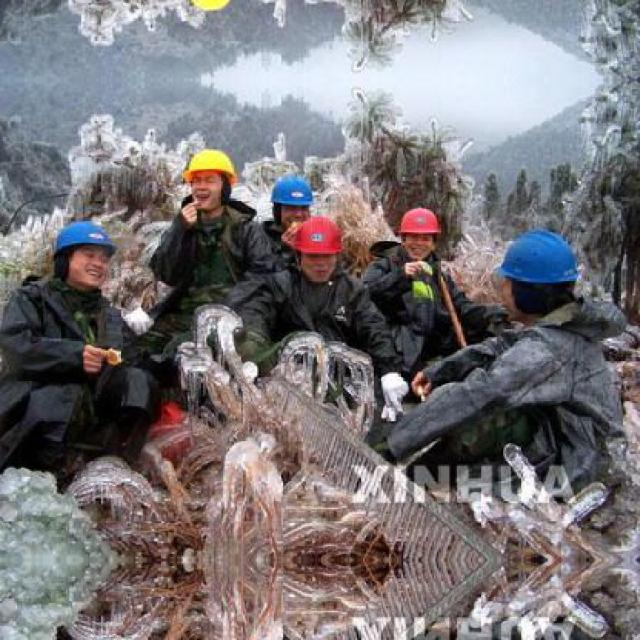helmet: (493, 223, 581, 314), (45, 212, 121, 296), (179, 142, 239, 212), (291, 212, 346, 280), (270, 174, 316, 229), (395, 203, 442, 255), (178, 0, 239, 18)
